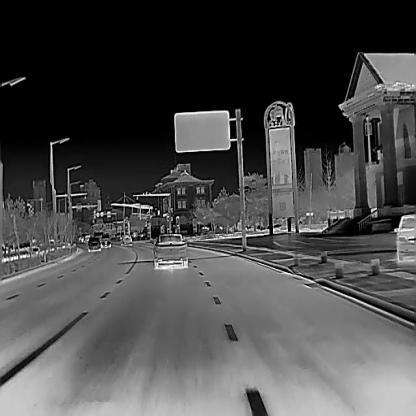car: (151, 233, 188, 267), (393, 213, 416, 261), (87, 237, 100, 251), (100, 233, 111, 248), (120, 234, 133, 245), (84, 234, 91, 243)
